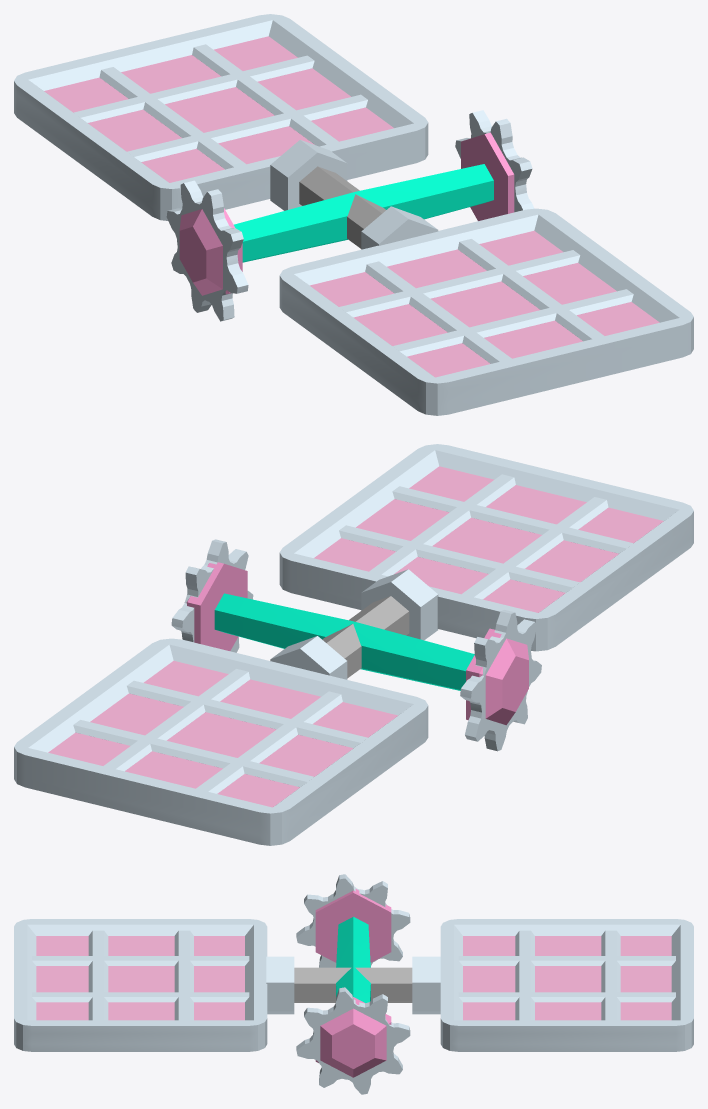
File: Sew_Saw.fbx
3 renders of one model, top to bottom at view 1: azimuth 30°, elevation 25°; view 2: azimuth 150°, elevation 25°; view 3: azimuth 270°, elevation 25°, orthographic. The views are drawn at different scales.
Visible parts, largest first — view 1: Sew_Saw; view 2: Sew_Saw; view 3: Sew_Saw.
Boxes of the visible parts, x1=… form: Sew_Saw: x1=14, y1=14, x2=693, y2=415; Sew_Saw: x1=14, y1=444, x2=693, y2=845; Sew_Saw: x1=14, y1=874, x2=693, y2=1094.
Size of the model in its own units: 233 by 90 by 537.
